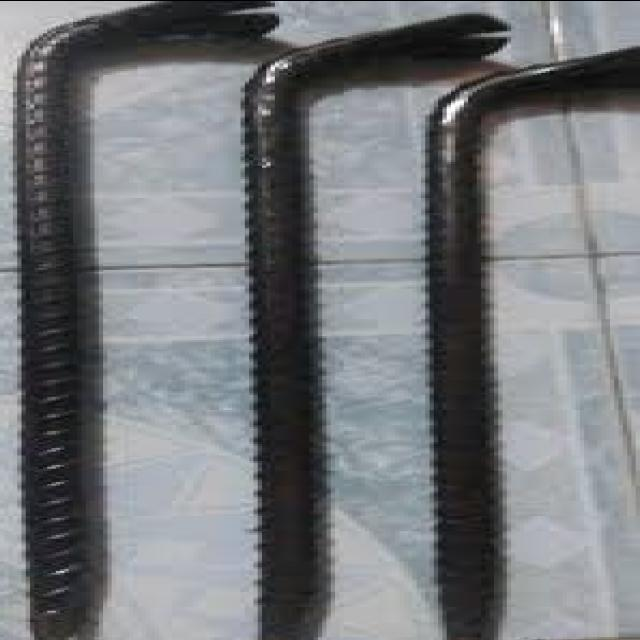Linggis: (244, 13, 509, 640)
